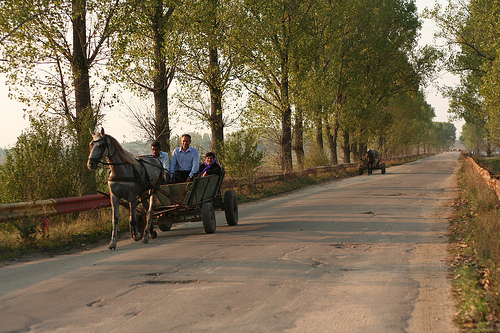horse: (87, 128, 168, 250)
